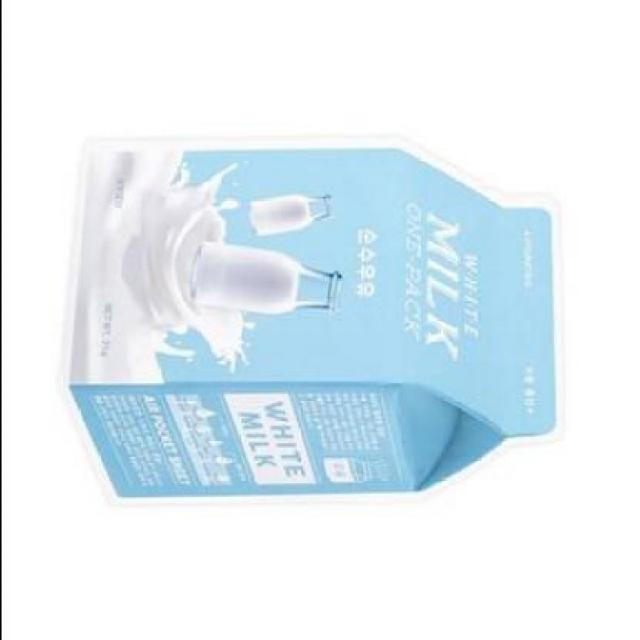non_white_jug: (42, 125, 582, 538)
